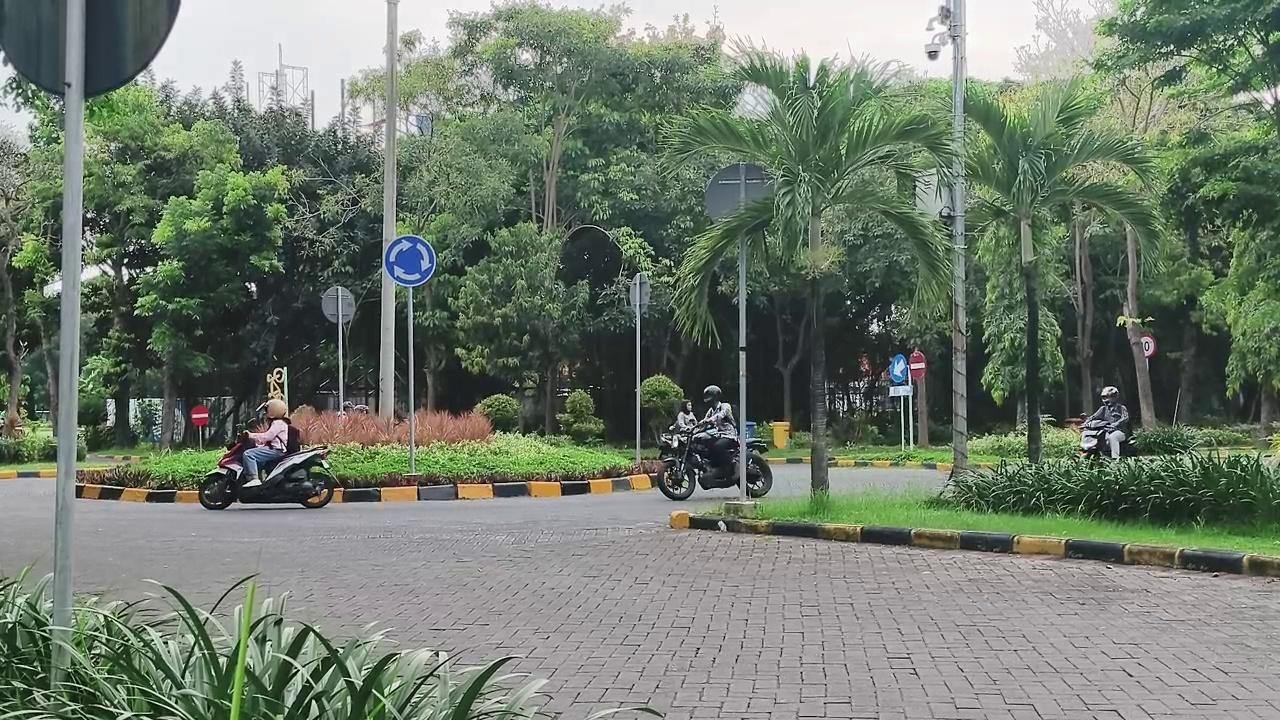Helmet: (241, 399, 289, 481), (700, 385, 735, 477), (1088, 386, 1130, 458)
Motor: (199, 433, 336, 509), (657, 426, 740, 500), (1080, 420, 1113, 459)
